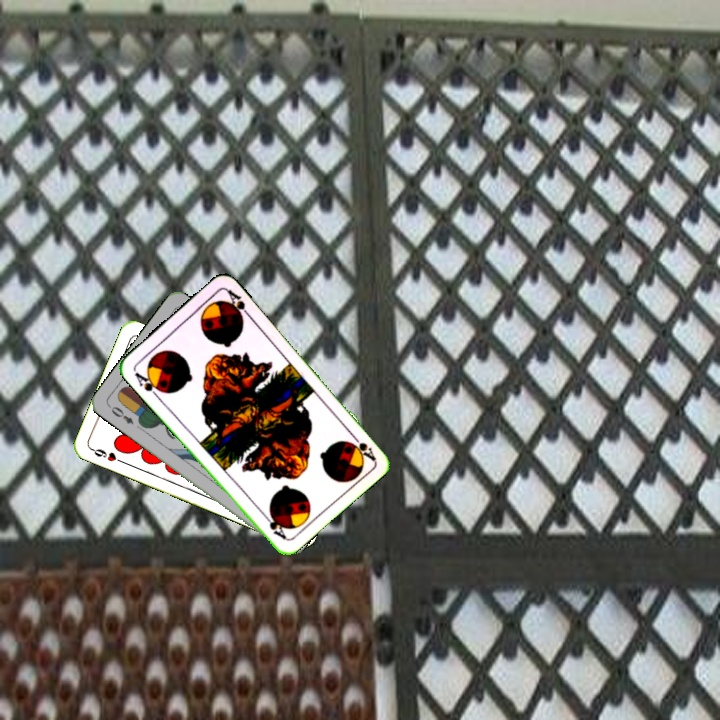EO: (104, 401, 136, 427)
H9: (87, 444, 126, 466)
SA: (130, 368, 166, 401), (346, 429, 378, 463)
